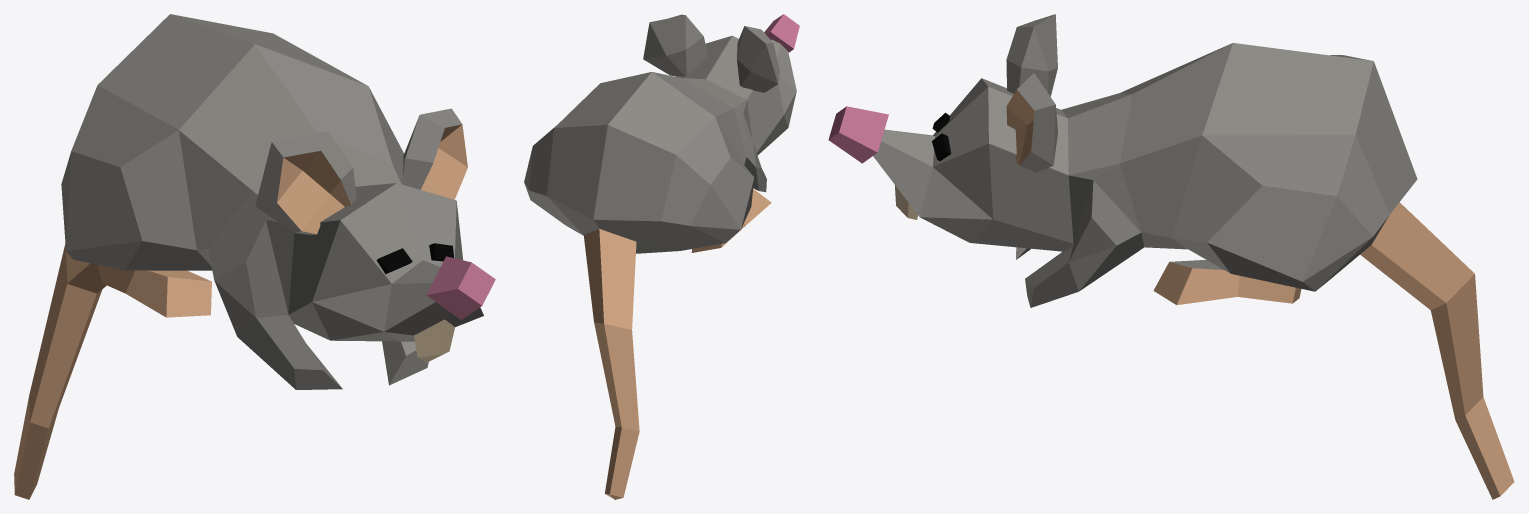
Rendered from SM_Prop_Pet_Rat_01.fbx.
The picture shows the model from 3 angles, left to right: view 1: azimuth 30°, elevation 25°; view 2: azimuth 150°, elevation 25°; view 3: azimuth 270°, elevation 25°; orthographic projection. The views are drawn at different scales.
Visible parts, largest first — view 1: SM_Prop_Pet_Rat_01; view 2: SM_Prop_Pet_Rat_01; view 3: SM_Prop_Pet_Rat_01.
Part boxes in pixels (box(x1,y1,x2,y2)): SM_Prop_Pet_Rat_01: box(14, 14, 495, 499); SM_Prop_Pet_Rat_01: box(524, 14, 799, 499); SM_Prop_Pet_Rat_01: box(828, 14, 1514, 499).
Bounding box in the file's own units: 14.89 × 23.7 × 29.76.
